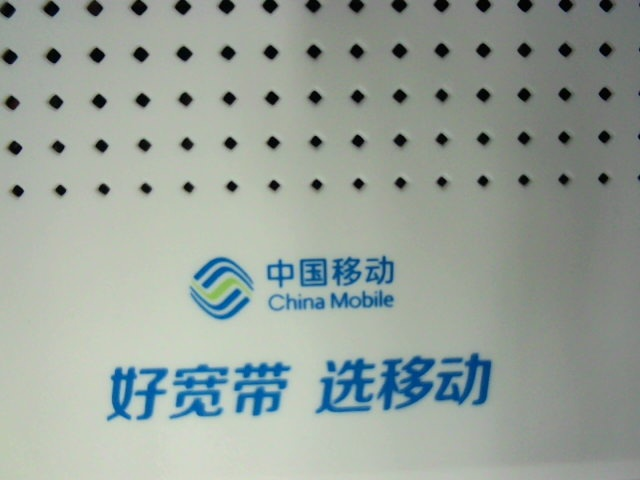AA_ChinaMobile: (89, 242, 513, 431)
